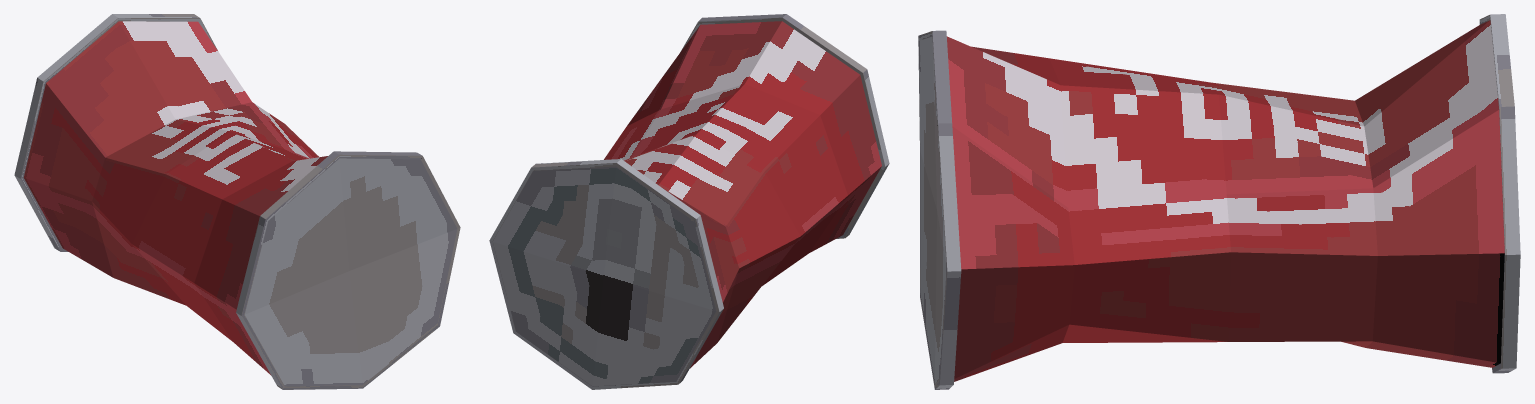
File: trashCan_model.fbx
The picture shows the model from 3 angles, left to right: view 1: azimuth 30°, elevation 25°; view 2: azimuth 150°, elevation 25°; view 3: azimuth 270°, elevation 25°; orthographic projection. The views are drawn at different scales.
Parts seen in each view (by area): view 1: Cube; view 2: Cube; view 3: Cube.
Boxes of the visible parts, <box> form: Cube: <box>14,14,460,389</box>; Cube: <box>489,14,889,389</box>; Cube: <box>918,14,1520,389</box>.
Size of the model in its own units: 56.03 by 50.77 by 80.84.
Materials: 1 (1 with a texture image).
